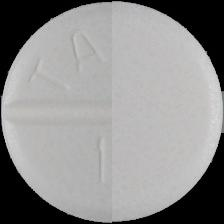33261-676: (0, 0, 224, 224)
